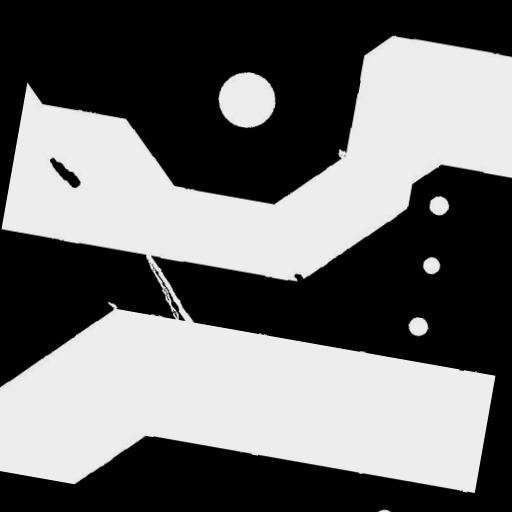copper: (36, 148, 92, 197)
mousebite: (328, 139, 358, 170), (98, 292, 126, 318)
open: (126, 244, 212, 333)
pin-hole: (412, 246, 449, 284)
spur: (283, 264, 313, 295)
